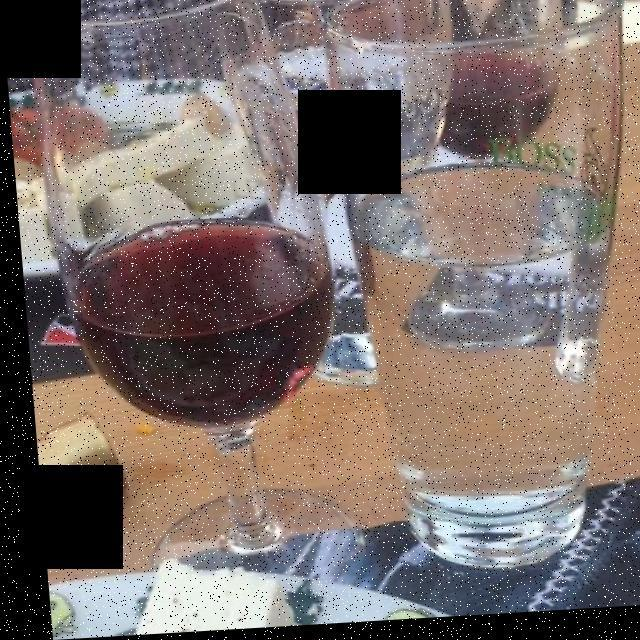water: (361, 176, 630, 550)
wine: (54, 215, 330, 436)
